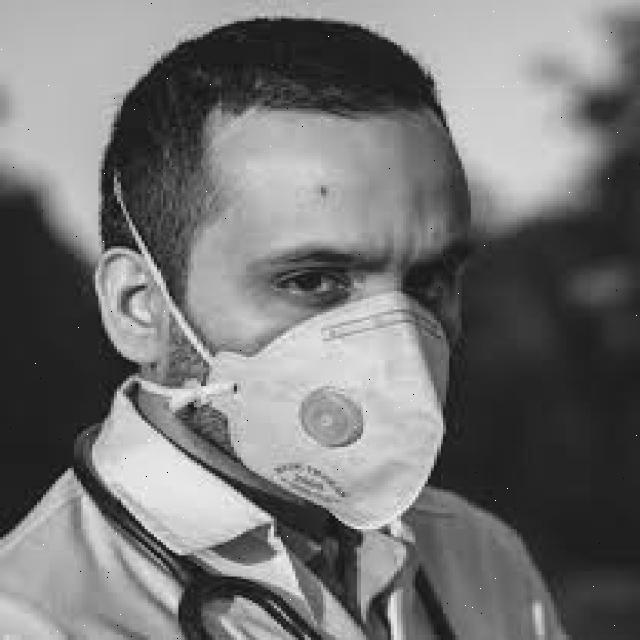fake: (155, 284, 493, 550)
real: (190, 112, 473, 543)
